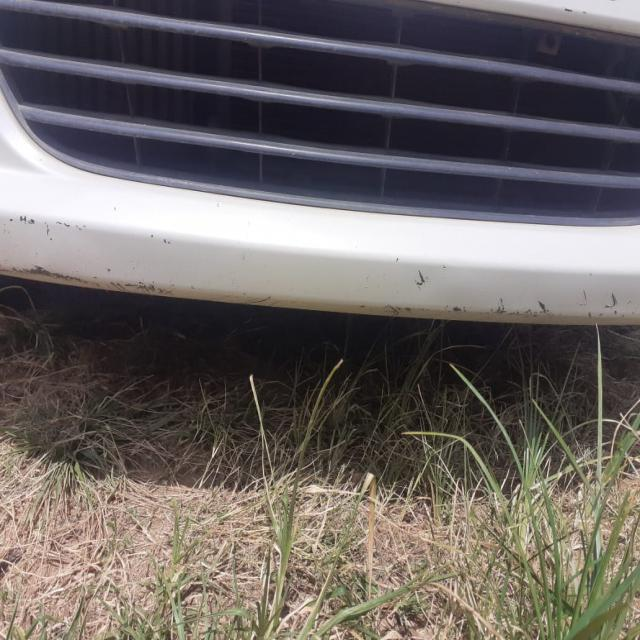front-bumper-dent: (0, 45, 639, 344)
